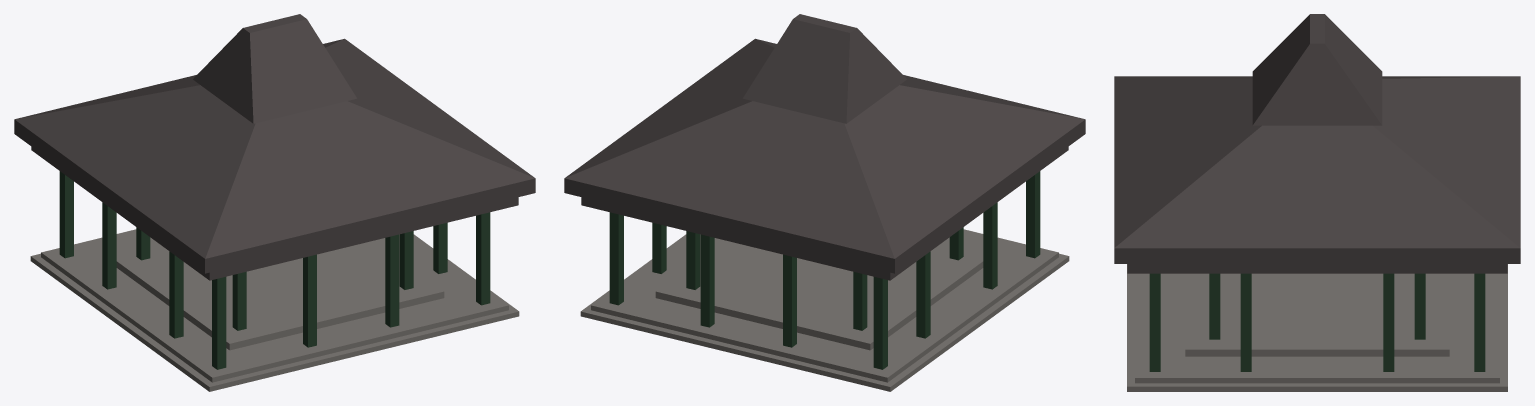
The model's file is B_Kasatrian.fbx.
3 views of the same model, side by side, from view 1: azimuth 30°, elevation 25°; view 2: azimuth 150°, elevation 25°; view 3: azimuth 270°, elevation 25° (orthographic). The views are drawn at different scales.
Visible parts, largest first — view 1: B_Kasatrian; view 2: B_Kasatrian; view 3: B_Kasatrian.
Part boxes in pixels (x1,y1,x2,y2): B_Kasatrian: (14, 14, 535, 391); B_Kasatrian: (564, 14, 1085, 391); B_Kasatrian: (1114, 14, 1520, 391).
Bounding box in the file's own units: 400 × 307 × 400.
1 material, 1 textured.
